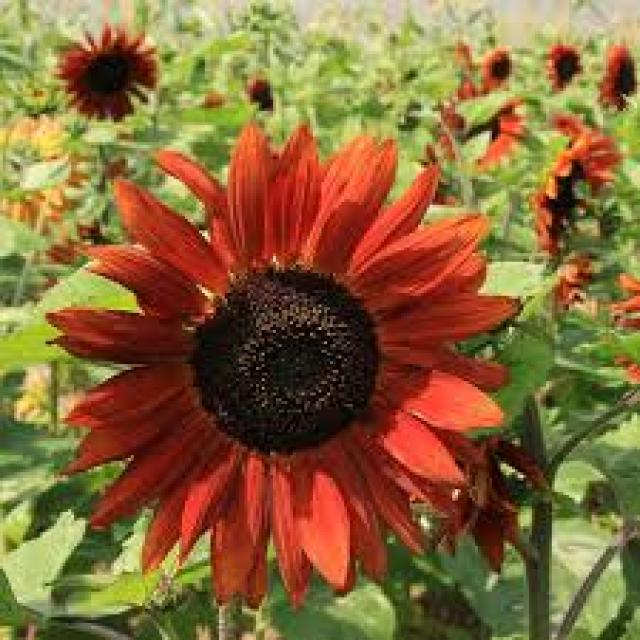sunflower: (35, 101, 528, 621), (422, 406, 550, 575), (528, 130, 627, 274), (46, 19, 166, 131), (449, 88, 532, 186), (477, 40, 531, 100), (547, 283, 600, 344), (599, 39, 640, 114), (542, 40, 593, 100), (236, 62, 284, 120), (196, 84, 224, 122)
